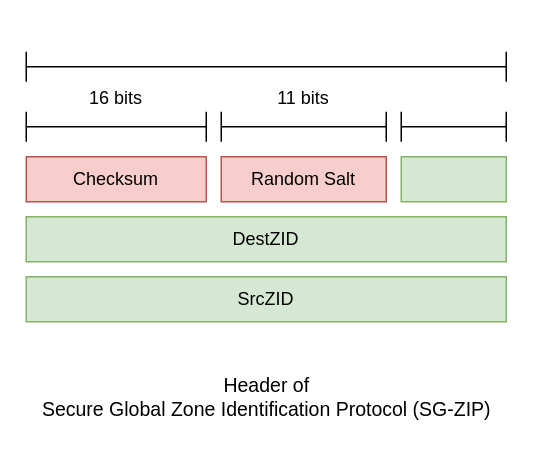
This 533x453 diagram has some shape labels left out. Here are the shapes that lost their labels. From the top down, the centre of each, then its label:
point (265, 66): 4 Bytes
point (453, 126): 5 bits
point (453, 178): ZLen
